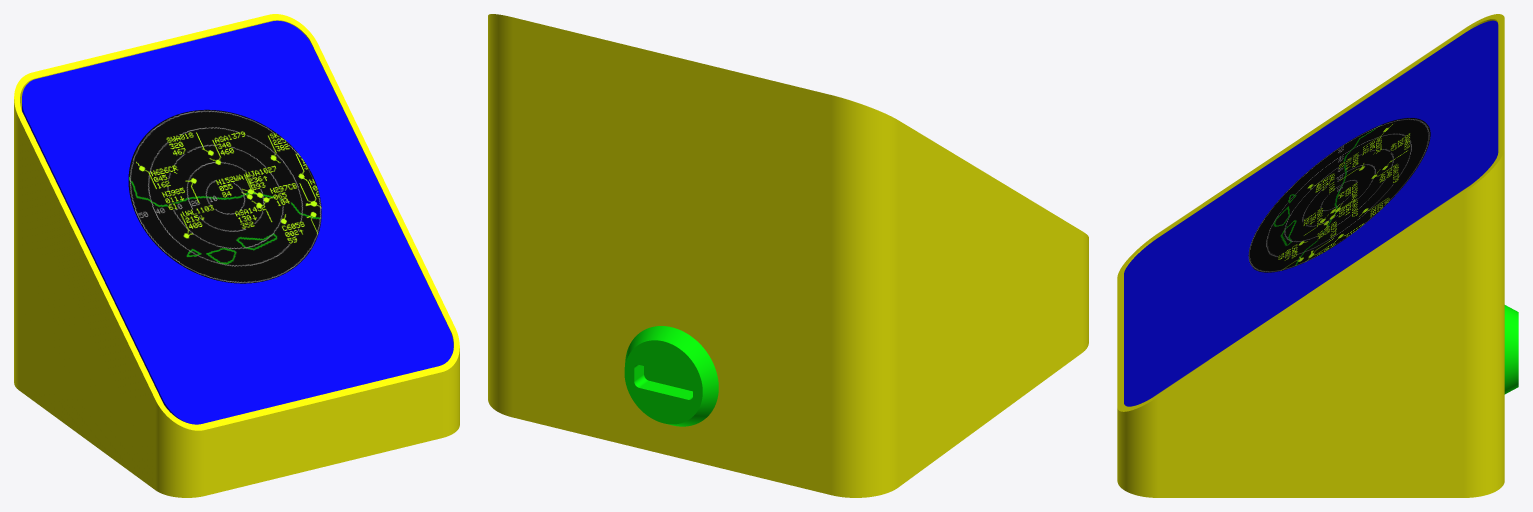
Rendered from radar_v12_I80.glb.
3 views of the same model, side by side, from view 1: azimuth 30°, elevation 25°; view 2: azimuth 150°, elevation 25°; view 3: azimuth 270°, elevation 25° (orthographic). The views are drawn at different scales.
Visible parts, largest first — view 1: Part 1.001, body, Part 1; view 2: body, plug; view 3: body, Part 1.001, Part 1, plug.
Part boxes in pixels (x1=…): Part 1.001: x1=22, y1=20, x2=453, y2=424; body: x1=14, y1=14, x2=459, y2=497; Part 1: x1=128, y1=110, x2=321, y2=283; body: x1=488, y1=14, x2=1088, y2=497; plug: x1=624, y1=326, x2=718, y2=426; body: x1=1117, y1=14, x2=1504, y2=497; Part 1.001: x1=1124, y1=20, x2=1498, y2=406; Part 1: x1=1248, y1=118, x2=1430, y2=272; plug: x1=1504, y1=305, x2=1518, y2=394.
Bounding box in the file's own units: 0.0603 × 0.0571 × 0.0625.
Materials: 4 (1 with a texture image).
